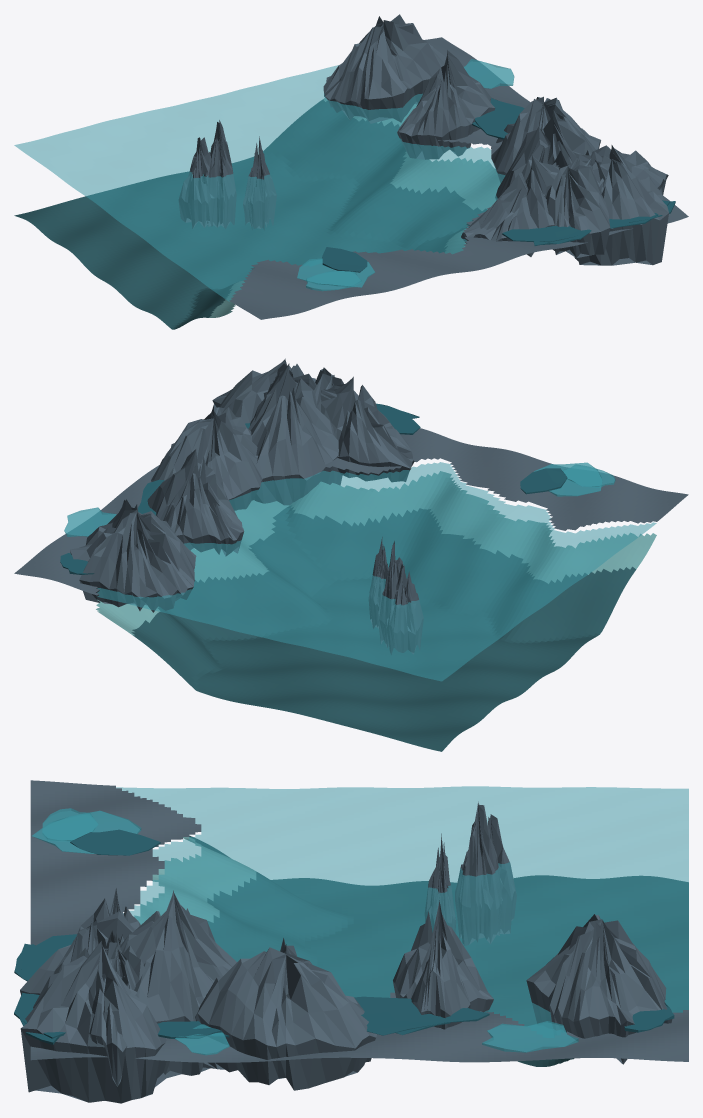
Rendered from water_tile_12.glb.
3 views of the same model, one above another, from view 1: azimuth 30°, elevation 25°; view 2: azimuth 150°, elevation 25°; view 3: azimuth 270°, elevation 25° (orthographic). The views are drawn at different scales.
Parts seen in each view (by area): view 1: glacial water surface 12, submerged mineral riverbed.012, single continuous dark slate shoreline.012, angular fractured shoreline ledge.114, angular fractured shoreline ledge.116, angular fractured shoreline ledge.115, visible shallow mineral shelves.012, angular fractured shoreline ledge.117, angular fractured shoreline ledge.119, angular fractured shoreline ledge.113, angular fractured shoreline ledge.112, underwater worn boulder.038 (+9 smaller); view 2: submerged mineral riverbed.012, glacial water surface 12, visible shallow mineral shelves.012, single continuous dark slate shoreline.012, angular fractured shoreline ledge.114, angular fractured shoreline ledge.113, angular fractured shoreline ledge.115, angular fractured shoreline ledge.112, angular fractured shoreline ledge.119, underwater worn boulder.039, angular fractured shoreline ledge.116, isolated flooded rock depression.059 (+6 smaller); view 3: glacial water surface 12, submerged mineral riverbed.012, single continuous dark slate shoreline.012, angular fractured shoreline ledge.112, angular fractured shoreline ledge.116, angular fractured shoreline ledge.114, angular fractured shoreline ledge.113, angular fractured shoreline ledge.115, visible shallow mineral shelves.012, underwater worn boulder.038, angular fractured shoreline ledge.118, erosion water finger above land.142 (+13 smaller).
Part boxes in pixels (<box>): glacial water surface 12: <box>14,65,505,301</box>; submerged mineral riverbed.012: <box>14,99,487,329</box>; single continuous dark slate shoreline.012: <box>229,37,688,319</box>; angular fractured shoreline ledge.114: <box>323,14,446,123</box>; angular fractured shoreline ledge.116: <box>574,145,668,265</box>; angular fractured shoreline ledge.115: <box>397,50,495,159</box>; visible shallow mineral shelves.012: <box>209,98,500,317</box>; angular fractured shoreline ledge.117: <box>544,150,610,258</box>; angular fractured shoreline ledge.119: <box>461,154,569,256</box>; angular fractured shoreline ledge.113: <box>495,110,591,250</box>; angular fractured shoreline ledge.112: <box>491,96,600,183</box>; underwater worn boulder.038: <box>207,120,236,228</box>; submerged mineral riverbed.012: <box>131,505,636,751</box>; glacial water surface 12: <box>97,462,656,681</box>; visible shallow mineral shelves.012: <box>96,471,656,635</box>; single continuous dark slate shoreline.012: <box>14,428,688,595</box>; angular fractured shoreline ledge.114: <box>70,499,196,612</box>; angular fractured shoreline ledge.113: <box>248,363,342,505</box>; angular fractured shoreline ledge.115: <box>147,449,244,556</box>; angular fractured shoreline ledge.112: <box>151,404,262,510</box>; angular fractured shoreline ledge.119: <box>313,376,414,482</box>; underwater worn boulder.039: <box>386,563,423,654</box>; angular fractured shoreline ledge.116: <box>219,358,315,423</box>; isolated flooded rock depression.059: <box>534,462,602,496</box>; glacial water surface 12: <box>116,786,688,1026</box>; submerged mineral riverbed.012: <box>189,835,688,1066</box>; single continuous dark slate shoreline.012: <box>30,780,688,1062</box>; angular fractured shoreline ledge.112: <box>195,938,376,1090</box>; angular fractured shoreline ledge.116: <box>20,941,169,1103</box>; angular fractured shoreline ledge.114: <box>526,914,672,1064</box>; angular fractured shoreline ledge.113: <box>120,890,236,1078</box>; angular fractured shoreline ledge.115: <box>393,900,493,1029</box>; visible shallow mineral shelves.012: <box>134,837,256,924</box>; underwater worn boulder.038: <box>455,801,502,945</box>; angular fractured shoreline ledge.118: <box>88,930,145,1086</box>; erosion water finger above land.142: <box>354,996,489,1035</box>.
Bounding box in the file's own units: 1.03 × 0.3715 × 1.03.
